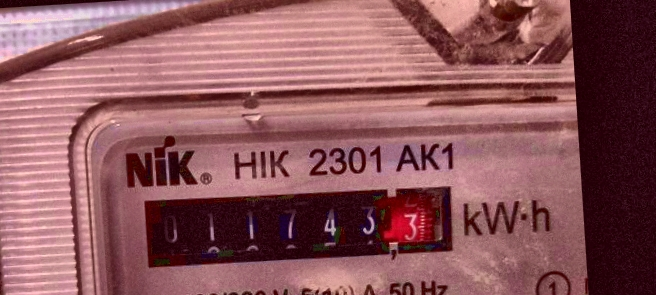0: (159, 210, 180, 247)
1: (242, 206, 259, 241), (205, 209, 217, 242)
3: (356, 201, 377, 238), (400, 211, 420, 245)
4: (319, 204, 338, 239)
7: (280, 205, 300, 240)
screen: (128, 169, 468, 284)
